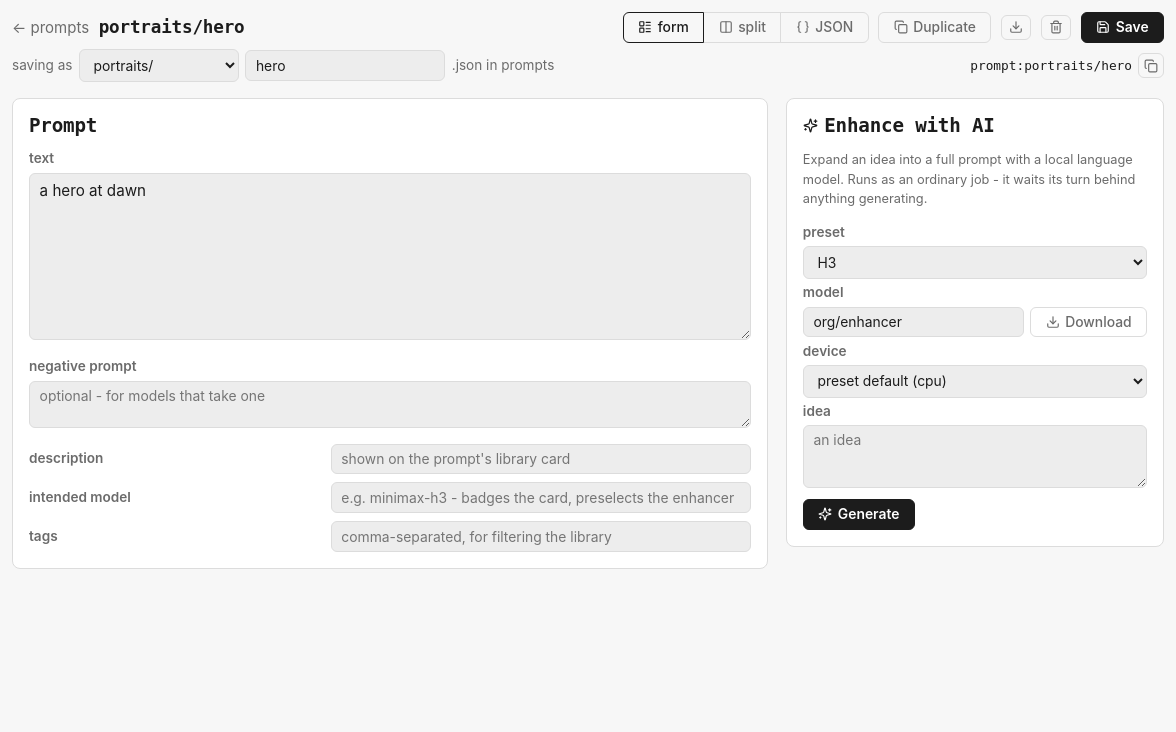
Scenario: keeps a model download in flight across a view switch
Expected: the text box labelled "text" holds "a hero at dawn", x1=29 y1=173 x2=751 y2=340
Click the button titled "download this model to the local cache now - otherwise the first enhancement downloads it".
click(1089, 322)  # box x1=1030 y1=307 x2=1147 y2=337
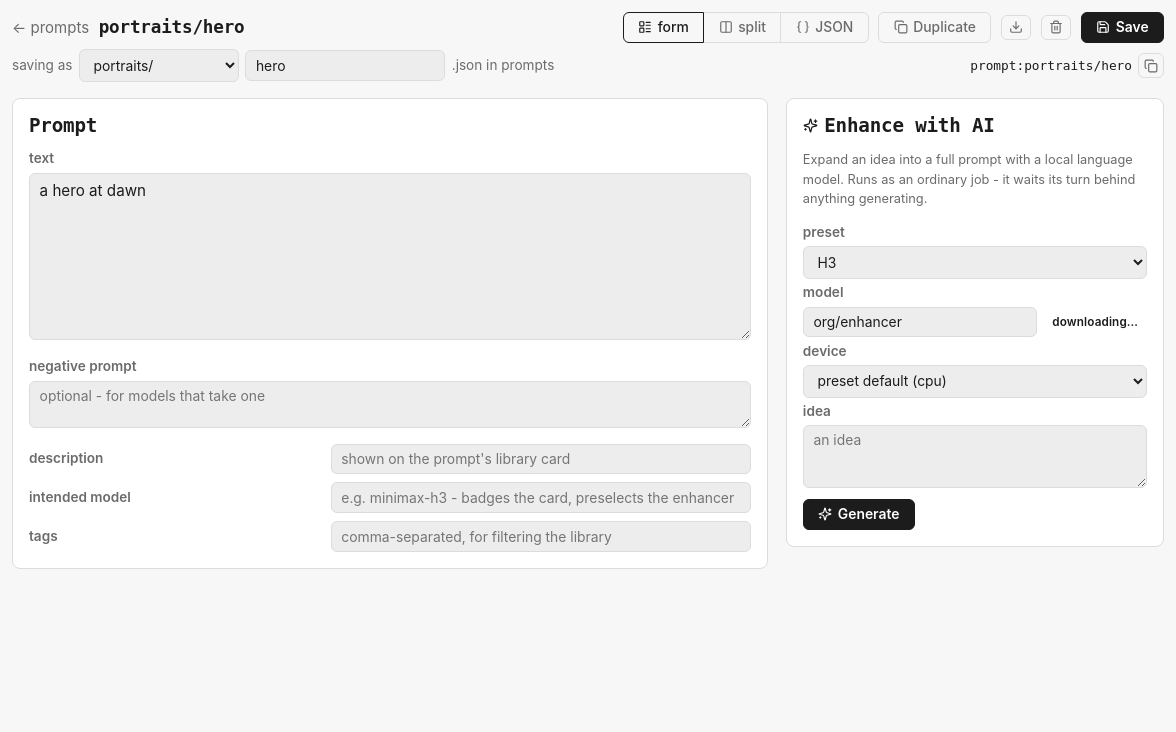
Expected: the text "downloading…" is shown, x1=1052 y1=315 x2=1138 y2=329
Click the button titled "edit the raw JSON, schema-aware".
click(824, 27)  # box x1=780 y1=12 x2=869 y2=43
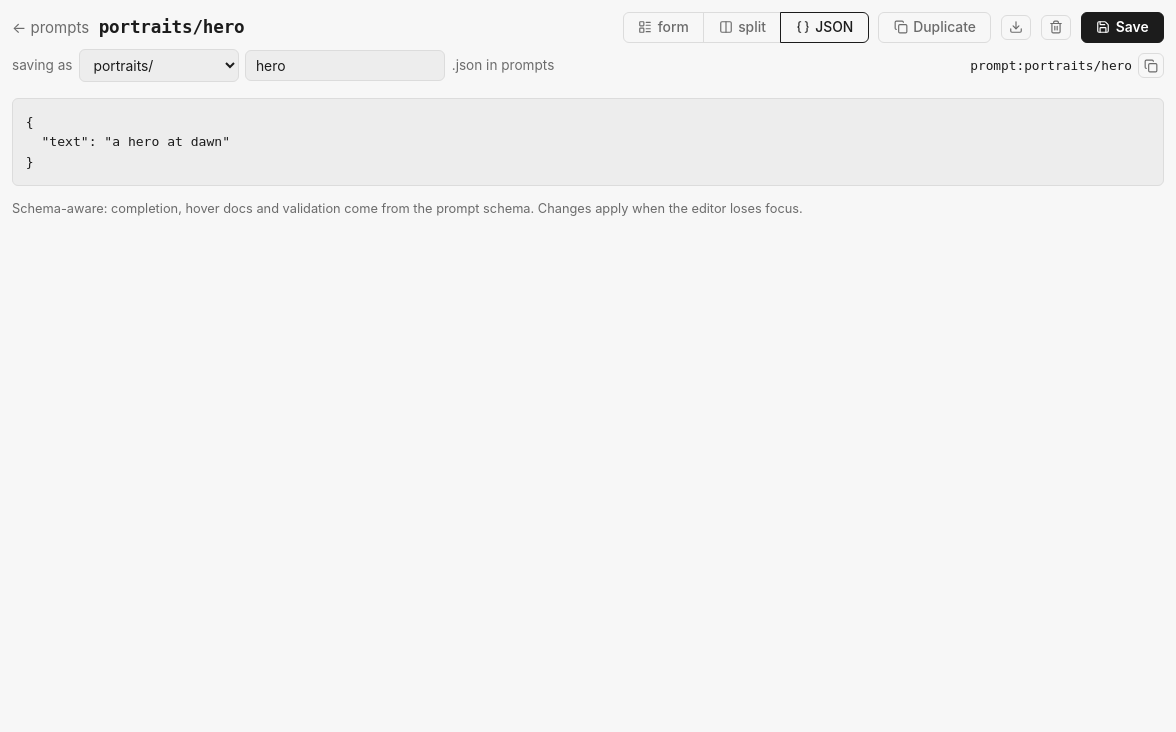
Click the button titled "edit with a form".
click(663, 27)  # box x1=623 y1=12 x2=704 y2=43
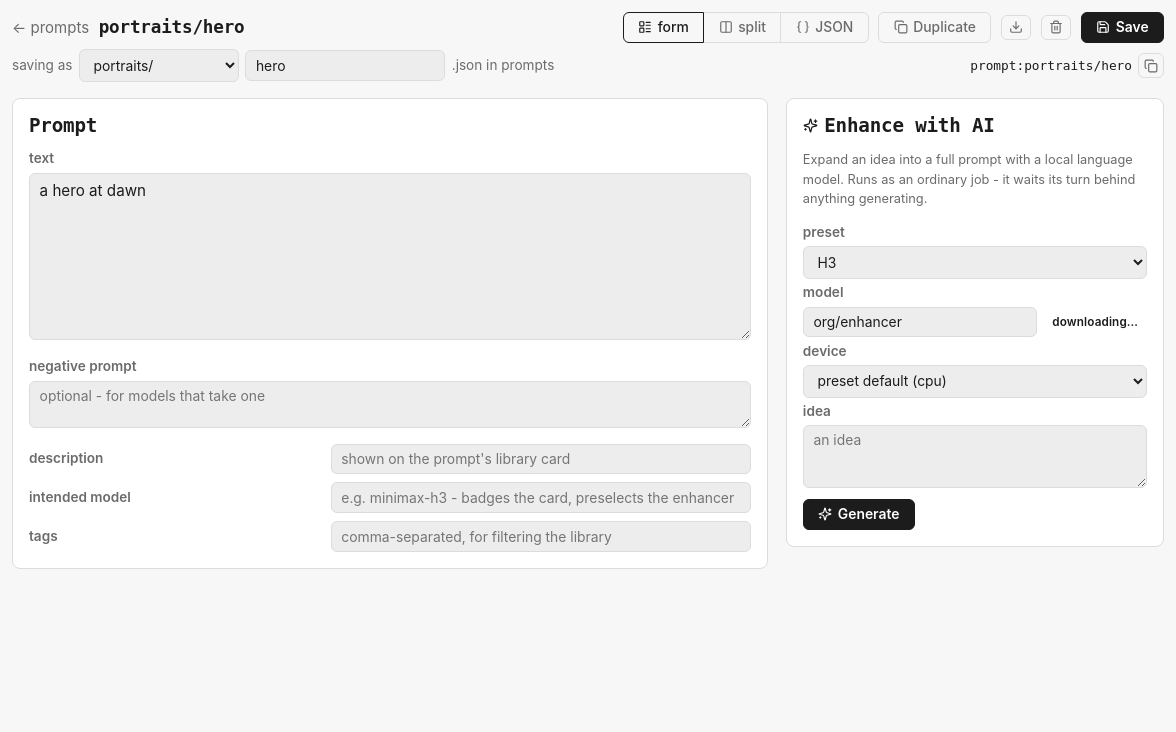
Expected: the text "downloading…" is shown, x1=1052 y1=315 x2=1138 y2=329
